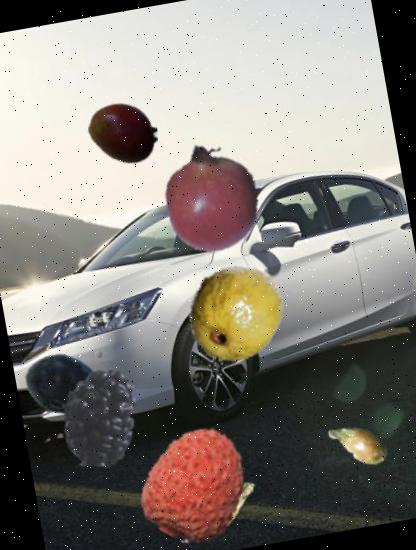Blueberry: (19, 342, 101, 424)
Cactus: (180, 462, 267, 549), (322, 406, 394, 478)
Guava: (177, 252, 295, 371)
Lychee: (129, 415, 265, 550)
Mango: (82, 93, 162, 173)
Mulberry: (41, 359, 157, 475)
Pomegranate: (148, 134, 275, 260)
